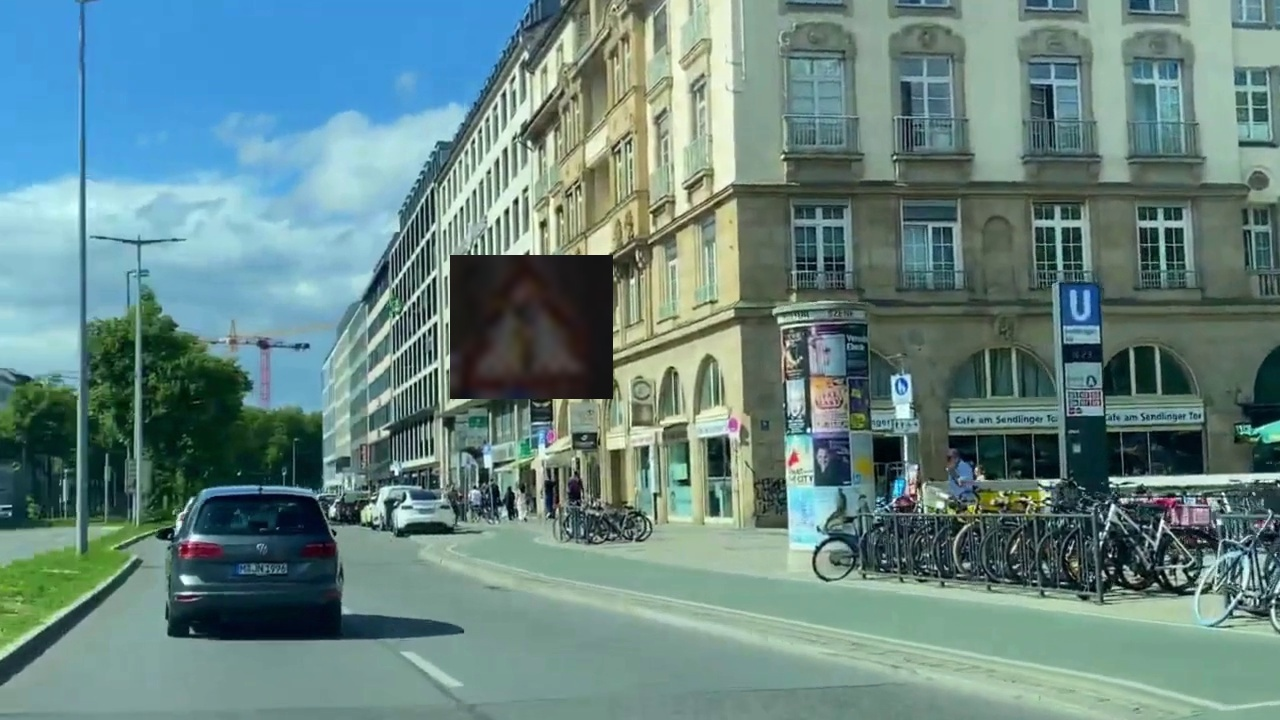Signals: (450, 255, 613, 399)
